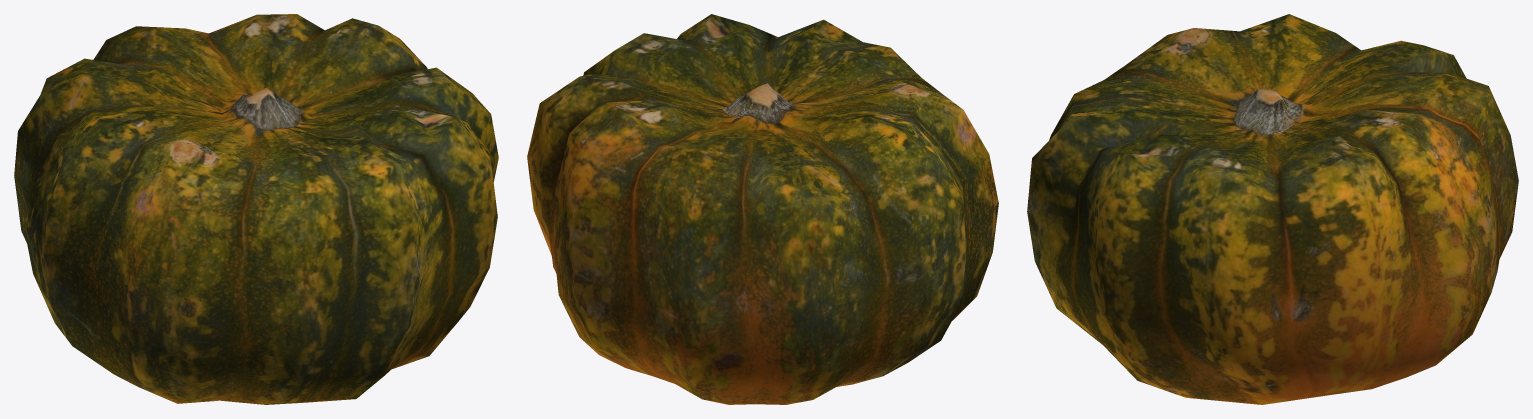
The model's file is A22_Pumpkin_low.fbx.
3 views of the same model, side by side, from view 1: azimuth 30°, elevation 25°; view 2: azimuth 150°, elevation 25°; view 3: azimuth 270°, elevation 25° (orthographic). The views are drawn at different scales.
Visible parts, largest first — view 1: A22_Pumpkin_low; view 2: A22_Pumpkin_low; view 3: A22_Pumpkin_low.
Part boxes in pixels (x1,y1,x2,y2): A22_Pumpkin_low: [14, 14, 498, 404]; A22_Pumpkin_low: [527, 14, 998, 404]; A22_Pumpkin_low: [1027, 14, 1518, 404].
Size of the model in its own units: 20.68 by 20.91 by 13.45.
1 material, 1 textured.
